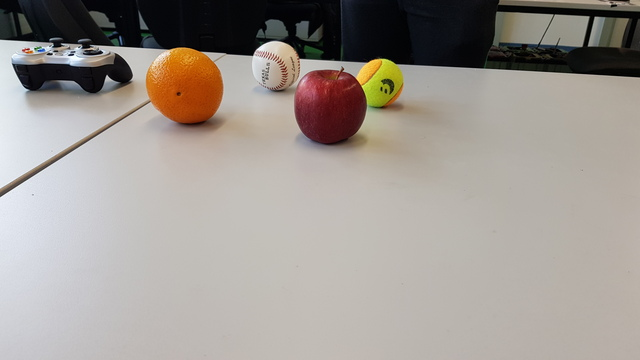013_apple: (293, 65, 368, 146)
017_orange: (145, 47, 225, 125)
055_baseball: (250, 40, 301, 92)
056_tennis_ball: (355, 58, 405, 109)
